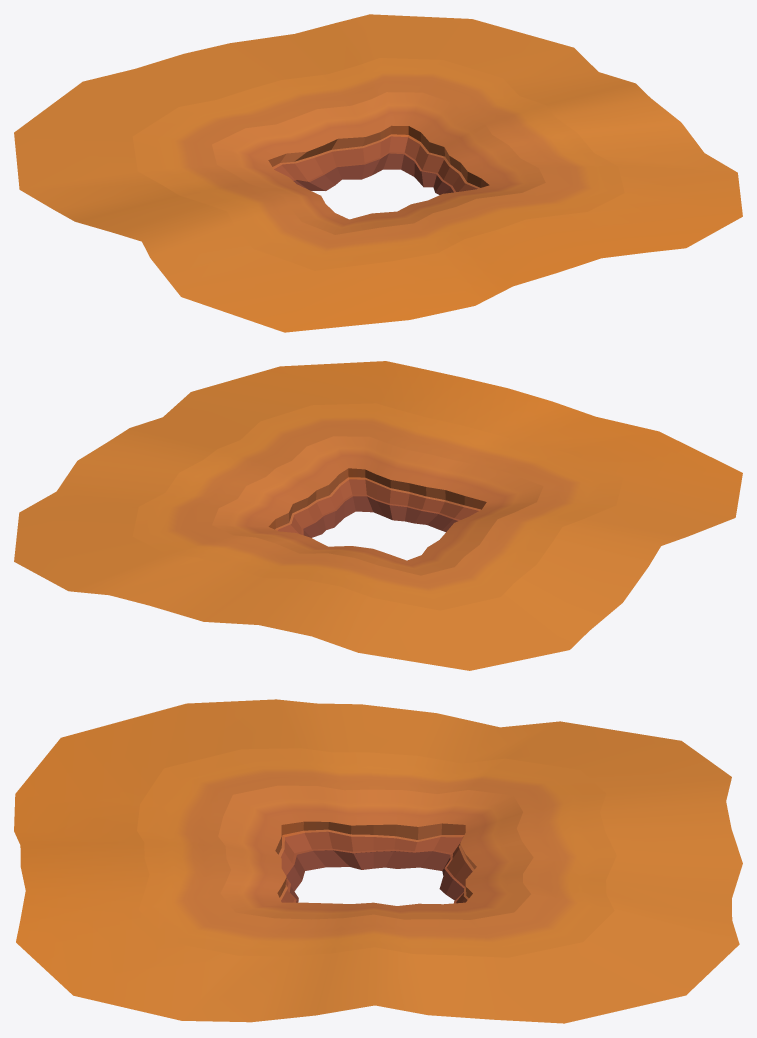
Rendered from Background.fbx.
The picture shows the model from 3 angles, top to bottom: view 1: azimuth 30°, elevation 25°; view 2: azimuth 150°, elevation 25°; view 3: azimuth 270°, elevation 25°; orthographic projection. The views are drawn at different scales.
Visible parts, largest first — view 1: Tile_Grass_Stone1; view 2: Tile_Grass_Stone1; view 3: Tile_Grass_Stone1.
Part boxes in pixels (<box>): Tile_Grass_Stone1: <box>14,14,742,332</box>; Tile_Grass_Stone1: <box>14,361,742,670</box>; Tile_Grass_Stone1: <box>14,699,742,1023</box>.
Size of the model in its own units: 586 by 49.99 by 582.
